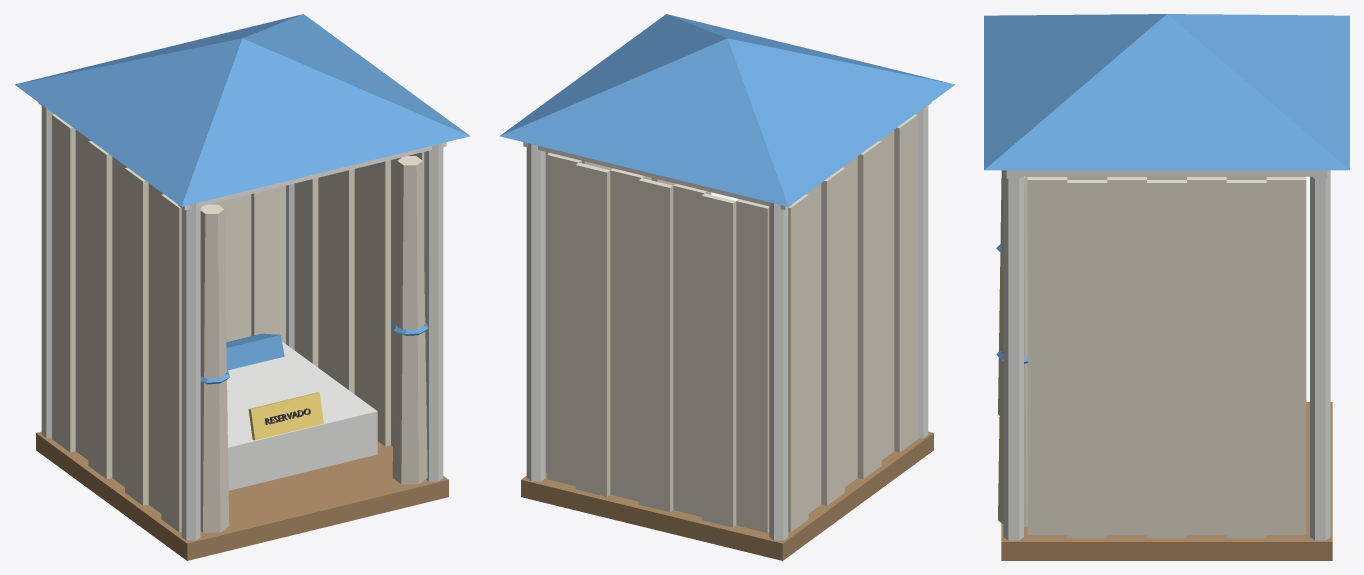
The model's file is CR_Cabana.fbx.
3 views of the same model, side by side, from view 1: azimuth 30°, elevation 25°; view 2: azimuth 150°, elevation 25°; view 3: azimuth 270°, elevation 25° (orthographic). The views are drawn at different scales.
Visible parts, largest first — view 1: CR_Cabana; view 2: CR_Cabana; view 3: CR_Cabana.
Boxes of the visible parts, x1,y1,x2,y2 form: CR_Cabana: (14,14,470,560); CR_Cabana: (499,14,955,560); CR_Cabana: (984,14,1349,560).
Bounding box in the file's own units: 2.1 × 3.02 × 2.1.
